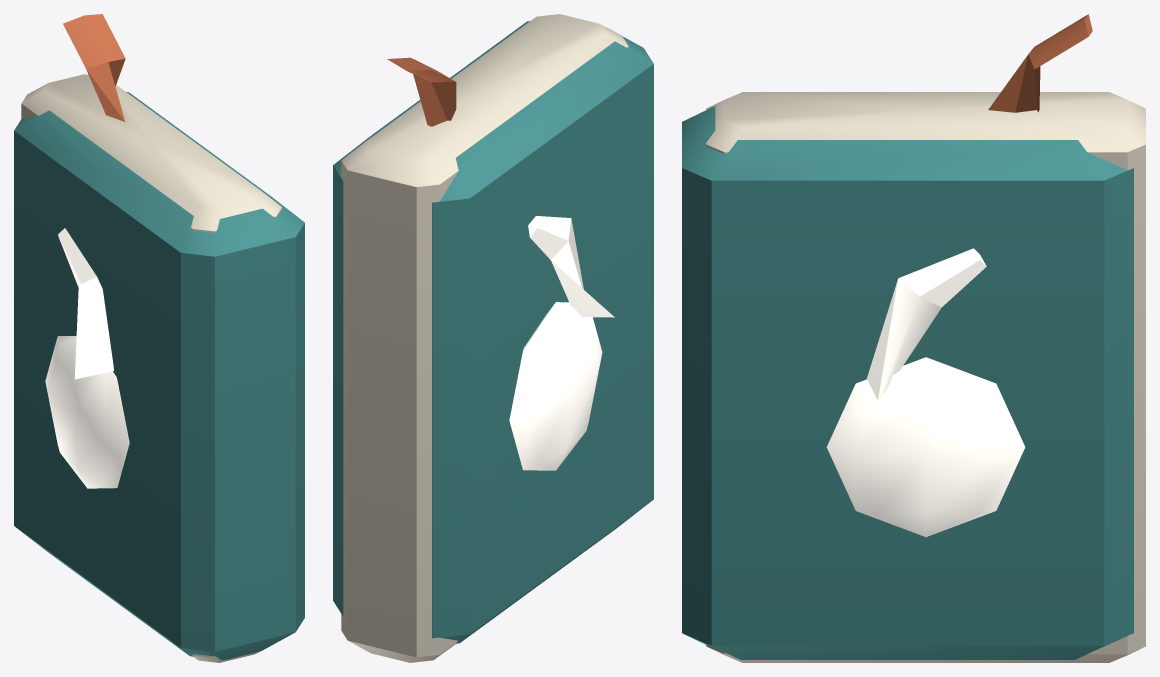
The model's file is tome-spirits.glb.
The picture shows the model from 3 angles, left to right: view 1: azimuth 30°, elevation 25°; view 2: azimuth 150°, elevation 25°; view 3: azimuth 270°, elevation 25°; orthographic projection. The views are drawn at different scales.
Visible parts, largest first — view 1: tome-spirits; view 2: tome-spirits; view 3: tome-spirits.
Part boxes in pixels (left/top/right/bottom): tome-spirits: left=14, top=14, right=304, bottom=662; tome-spirits: left=333, top=14, right=653, bottom=662; tome-spirits: left=682, top=14, right=1145, bottom=662.
Bounding box in the file's own units: 0.088 × 0.2291 × 0.154.
